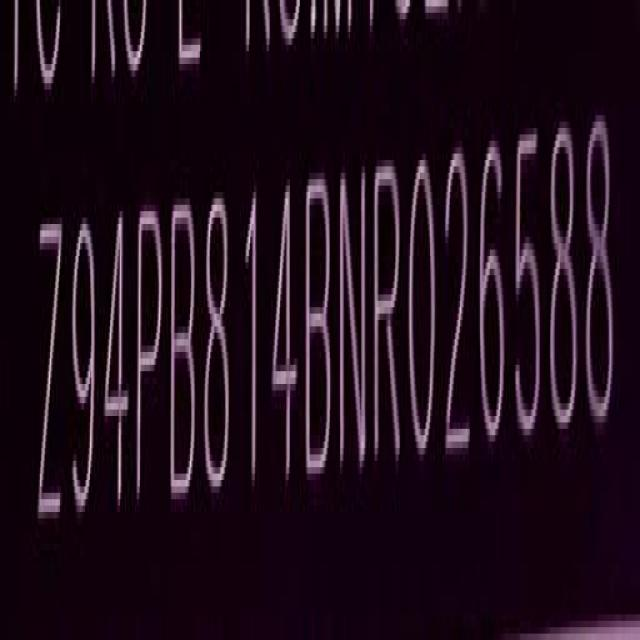0: (409, 155, 438, 465)
1: (242, 185, 261, 502)
2: (445, 144, 476, 462)
4: (272, 178, 302, 493), (104, 209, 133, 524)
5: (512, 126, 544, 443)
6: (478, 138, 507, 454)
8: (586, 111, 618, 433), (549, 122, 581, 439), (205, 189, 232, 506)
9: (70, 217, 98, 532)
B: (305, 170, 337, 488), (170, 195, 202, 510)
N: (341, 165, 371, 484)
P: (135, 204, 163, 516)
R: (375, 156, 407, 474)
Z: (39, 220, 67, 544)
